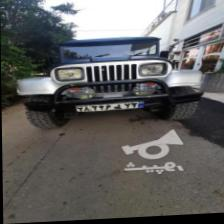plate: (75, 102, 145, 113)
